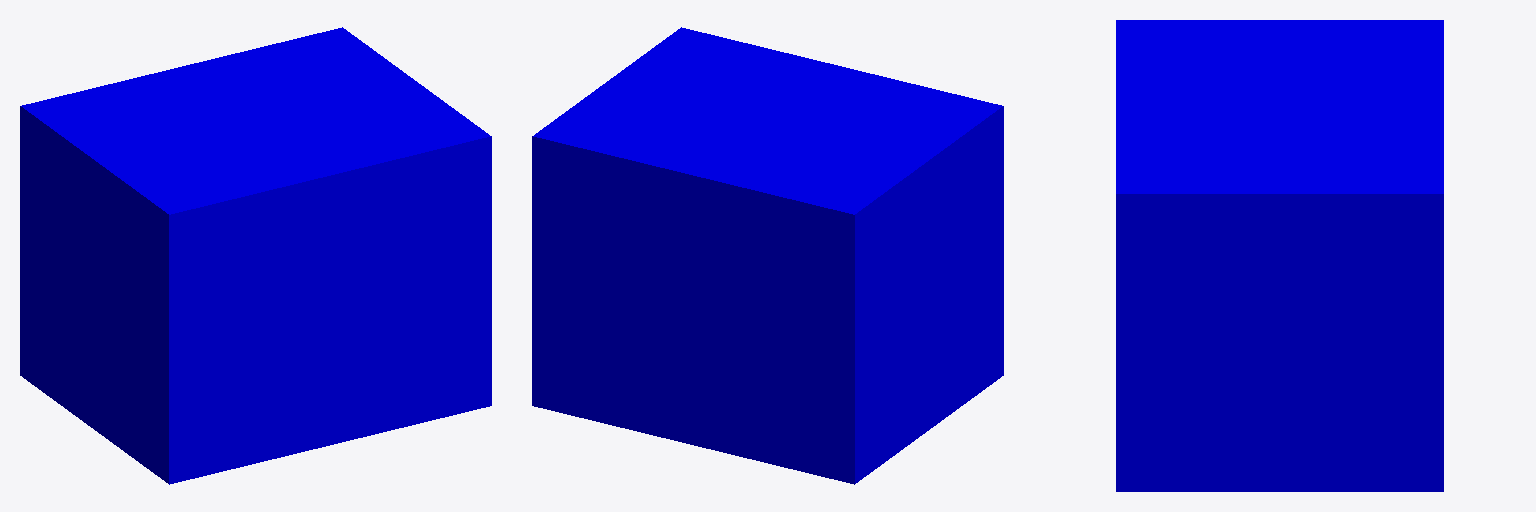
The robot description file, URDF, robot "cubeDE12":
<?xml version="1.0"?>
<robot name="cubeDE12">
	<link name="base">
	<inertial>
        	 <origin xyz="0 0 0" rpy="0 0 0"/>
        	 <mass value="0.5"/>
        	 <inertia ixx="0.000683333"  ixy="0"  ixz="0" iyy="0.000683333" iyz="0" izz="0.000683333" />
       </inertial>
		<visual>
			<origin xyz="0 0 0" rpy="0 0 0" />
			<geometry>
				<box size="0.025 0.02 0.02" />
			</geometry>
			<material>
				<color rgba="0 0 1 1" />
			</material>
		</visual>
		<collision>
			<origin xyz="0 0 0" rpy="0 0 0" />
			<material>
				<color rgba="0 0 1 1" />
			</material>
			<geometry>
				<box size="0.025 0.02 0.02" />
			</geometry>
			
		</collision>
		
	</link>
</robot>

--- What the picture shows (computed from the rendered views, not written in the file) ---
The picture shows the robot from 3 angles, left to right: view 1: azimuth 30°, elevation 25°; view 2: azimuth 150°, elevation 25°; view 3: azimuth 270°, elevation 25°; orthographic projection.
Model cubeDE12 with 1 links and 0 joints (none), rooted at base, posed all joints at 0.
Visible links, largest first — view 1: base; view 2: base; view 3: base.
Boxes of the visible links, x1,y1,x2,y2 form: base: [20, 27, 491, 484]; base: [532, 27, 1003, 484]; base: [1116, 20, 1443, 491].
Size in the robot's own frame: 0.025 by 0.02 by 0.02 metres.
Geometry: primitives only (box / cylinder / sphere), no mesh files.
